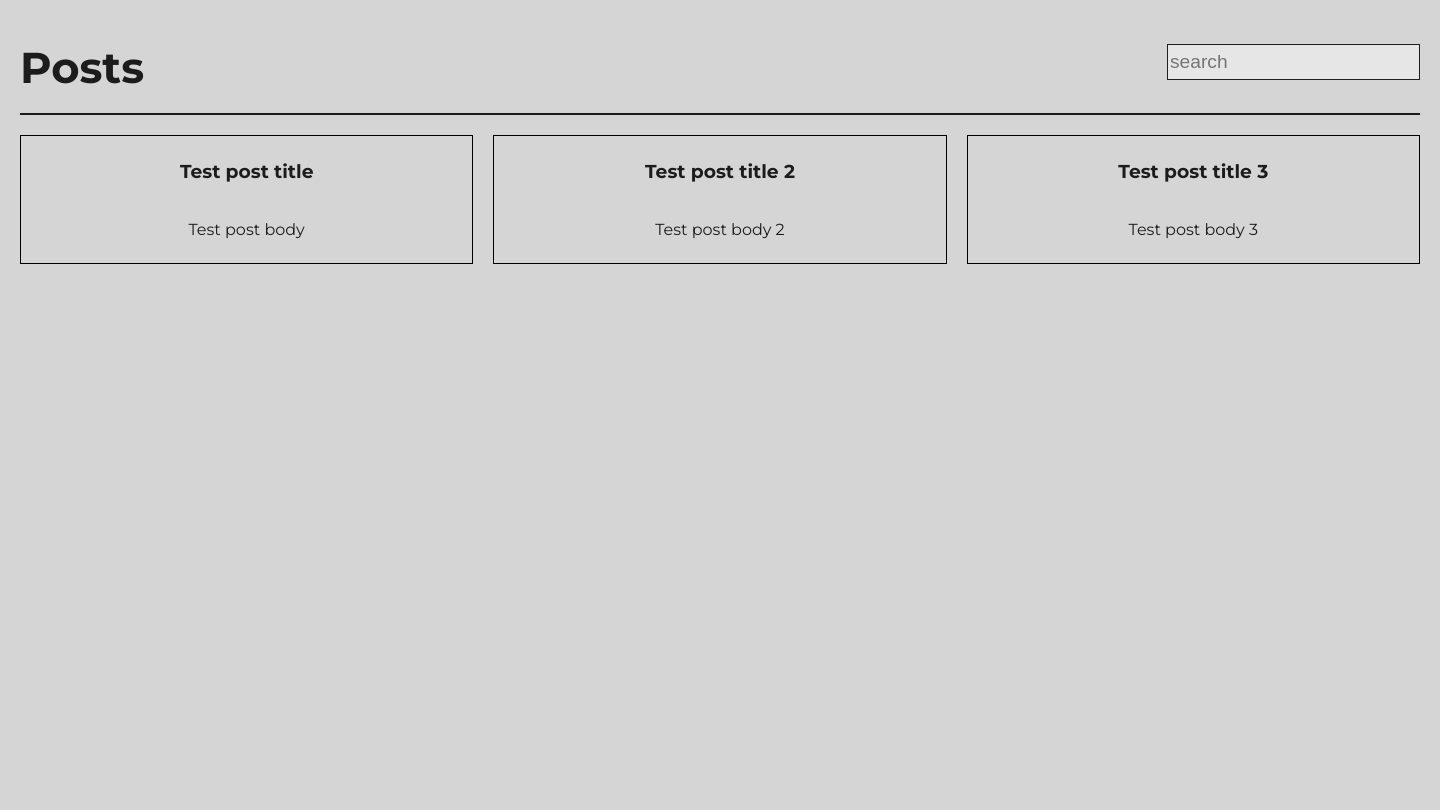
Test: Posts › should show success error when delete fails
Click the heading "Test post title 2": (720, 172) 645,160 -> 795,184
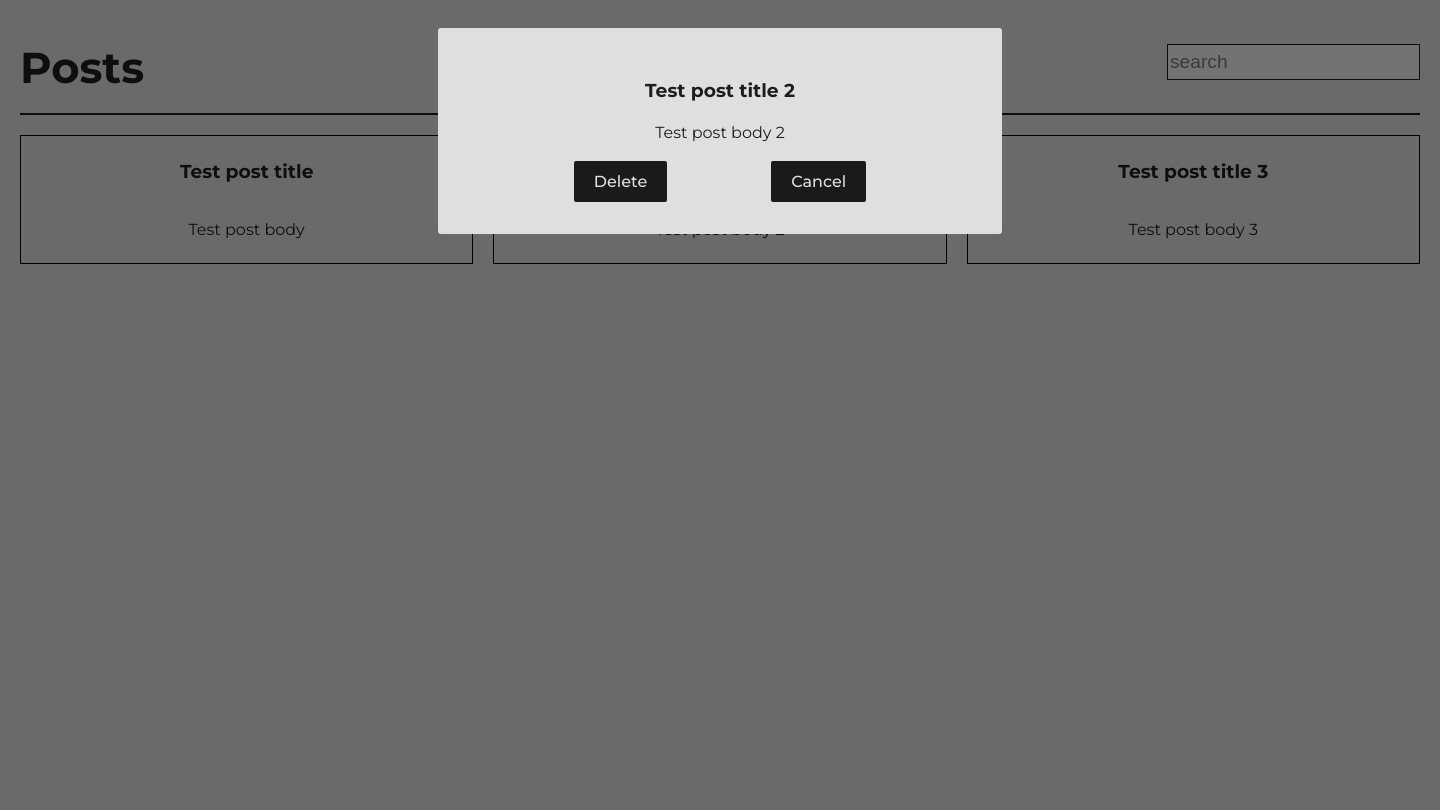
Click the button "Delete": (620, 182) 574,161 -> 667,202
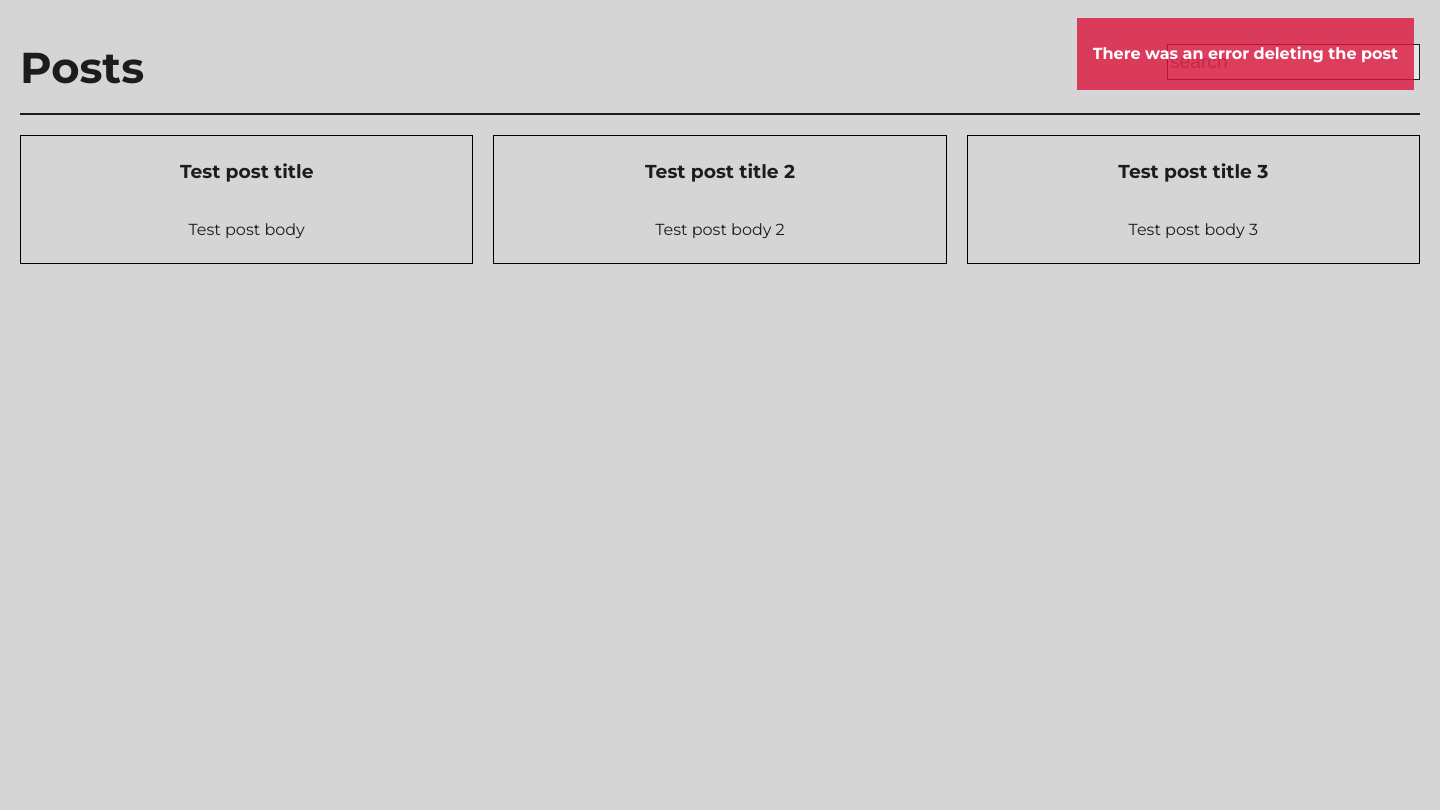
Result: the text "There was an error deleting the post" is shown at 1092,42 -> 1398,66
